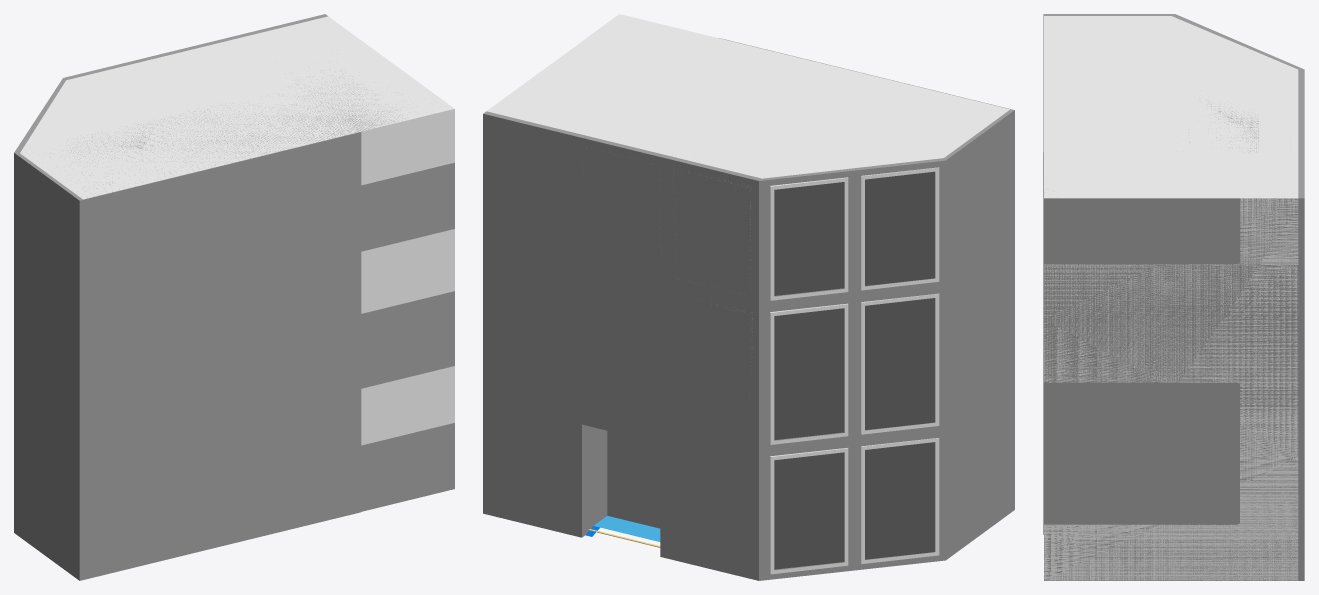
File: MTS_Side_Dummy_NEW.fbx
3 renders of one model, left to right at view 1: azimuth 30°, elevation 25°; view 2: azimuth 150°, elevation 25°; view 3: azimuth 270°, elevation 25°, orthographic. The views are drawn at different scales.
Visible parts, largest first — view 1: pCube6, MTS_Body, pCube1; view 2: pCube4, MTS_Body, MTS_Glass, pCube1, pCube2, pCube6, pCube5, pCube3; view 3: MTS_Body, pCube1, pCube6, pCube4.
Part boxes in pixels (x1=…): pCube6: x1=14, y1=91, x2=361, y2=580; MTS_Body: x1=20, y1=16, x2=454, y2=445; pCube1: x1=232, y1=14, x2=454, y2=511; pCube4: x1=759, y1=158, x2=945, y2=580; MTS_Body: x1=487, y1=14, x2=1009, y2=574; MTS_Glass: x1=774, y1=172, x2=934, y2=569; pCube1: x1=483, y1=111, x2=607, y2=537; pCube2: x1=660, y1=154, x2=761, y2=580; pCube6: x1=718, y1=38, x2=1014, y2=560; pCube5: x1=582, y1=135, x2=662, y2=443; pCube3: x1=607, y1=431, x2=660, y2=528; MTS_Body: x1=1044, y1=16, x2=1298, y2=580; pCube1: x1=1044, y1=152, x2=1304, y2=580; pCube6: x1=1043, y1=14, x2=1175, y2=534; pCube4: x1=1171, y1=14, x2=1304, y2=69.
Bounding box in the file's own units: 1714 × 1658 × 1027.
Materials: 3 (1 with a texture image).
